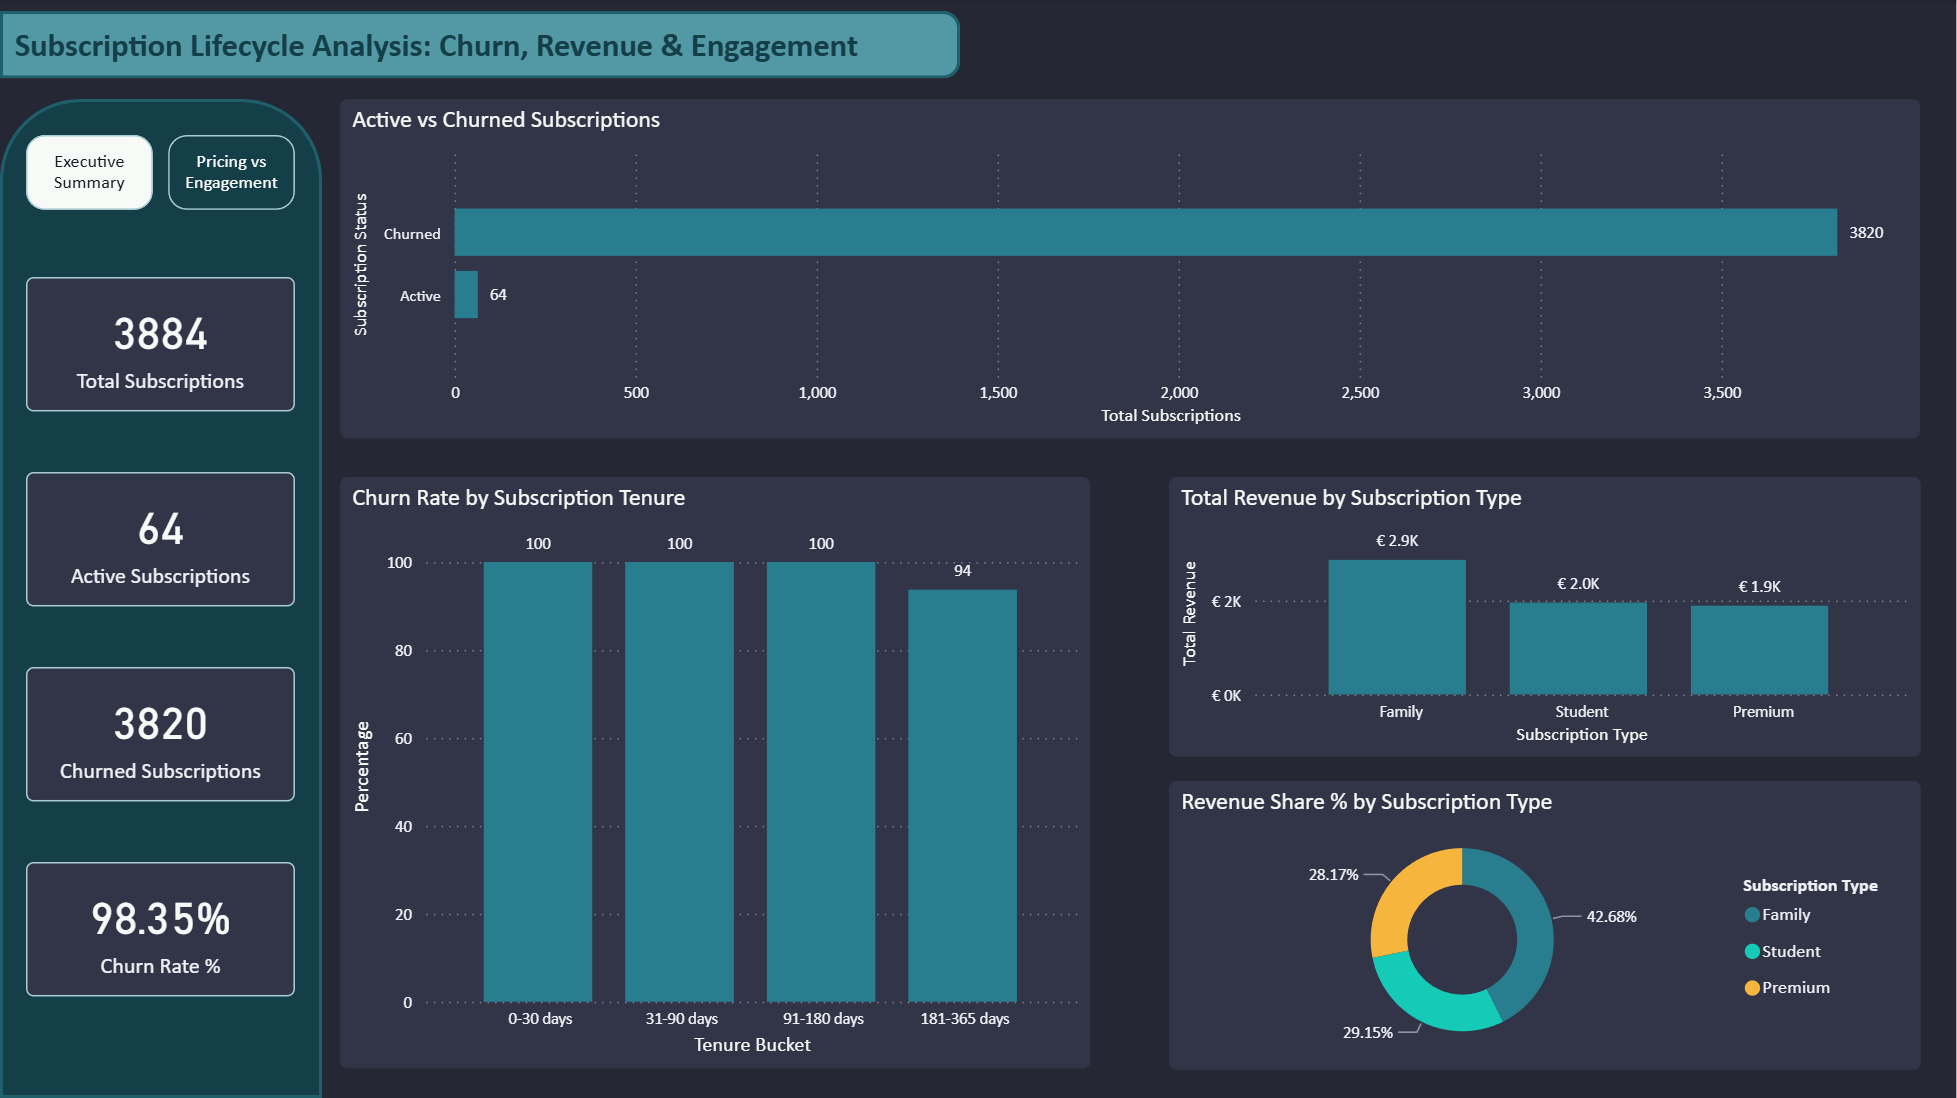

Layout of this report page (visuals, bound fields, positions):
{"tool":"powerbi","page":{"name":"Executive Summary","canvas":[1280,720],"ordinal":0},"visuals":[{"type":"clusteredBarChart","title":"Active vs Churned Subscriptions","fields":{"Y":["CountNonNull(bi_subscriptions.Subscription Status)"],"Category":["bi_subscriptions.Subscription Status"]},"box":[222.5,64.8,1033.9,221.8],"z":0},{"type":"clusteredColumnChart","title":"Churn Rate by Subscription Tenure","fields":{"Category":["bi_churn_tenure.tenure_bucket"],"Y":["Sum(bi_churn_tenure.churn_rate_percent)"]},"box":[222.8,312.5,491.1,387.4],"z":1000},{"type":"clusteredColumnChart","fields":{"Category":["bi_payments.subscription_type"],"Y":["bi_payments.Total Revenue"]},"box":[764.8,312.5,491.8,183.3],"z":2000},{"type":"donutChart","fields":{"Y":["bi_payments.Revenue Share %"],"Category":["bi_payments.subscription_type"]},"box":[764.8,511.2,491.8,188.7],"z":3000},{"type":"shape","box":[0,64.8,210.7,653.7],"z":3500},{"type":"card","fields":{"Values":["bi_subscriptions.Total Subscriptions"]},"box":[16.7,181.5,176,87.7],"z":4000},{"type":"card","fields":{"Values":["bi_subscriptions.Active Subscriptions"]},"box":[16.7,309,176,87.7],"z":5000},{"type":"card","fields":{"Values":["bi_subscriptions.Churned Subscriptions"]},"box":[16.7,436.5,176,87.7],"z":6000},{"type":"card","fields":{"Values":["bi_subscriptions.Churn Rate %"]},"box":[16.7,564.1,176,87.7],"z":7000},{"type":"pageNavigator","box":[17,88.3,176,49.7],"z":8000},{"type":"shape","box":[0,7.4,628.3,44.2],"z":9000},{"type":"textbox","box":[4.6,11.8,575.9,39.9],"z":10000}]}

Visuals, with their boxes in screenshot pixels (x1, y1, x2, y2), scaled from the page's 1280x720 canvas onto the 1957x1098 screenshot:
"Active vs Churned Subscriptions" clusteredBarChart: (340, 99, 1921, 437)
"Churn Rate by Subscription Tenure" clusteredColumnChart: (341, 477, 1091, 1067)
clusteredColumnChart - bi_payments.subscription_type x bi_payments.Total Revenue: (1169, 477, 1921, 756)
donutChart - bi_payments.Revenue Share % x bi_payments.subscription_type: (1169, 780, 1921, 1067)
shape: (0, 99, 322, 1096)
card - bi_subscriptions.Total Subscriptions: (26, 277, 295, 411)
card - bi_subscriptions.Active Subscriptions: (26, 471, 295, 605)
card - bi_subscriptions.Churned Subscriptions: (26, 666, 295, 799)
card - bi_subscriptions.Churn Rate %: (26, 860, 295, 994)
pageNavigator: (26, 135, 295, 210)
shape: (0, 11, 961, 79)
textbox: (7, 18, 888, 79)
